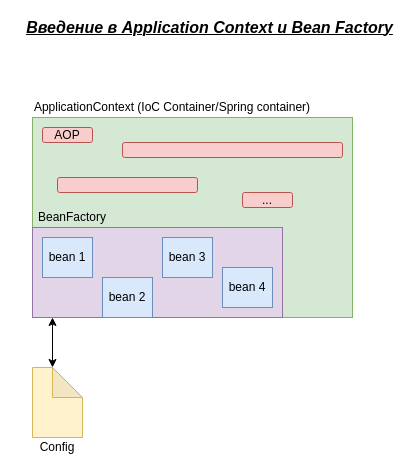
The diagram is 419 pixels wide and 474 high, and some of its shapes have lost their labels. Here are the shapes that lost their labels. From the top down, the centre of each, then its label:
At pixel 232 150: "handling Messag Resouces (i18n-style)".
At pixel 127 184: "WebApplicationContext".
